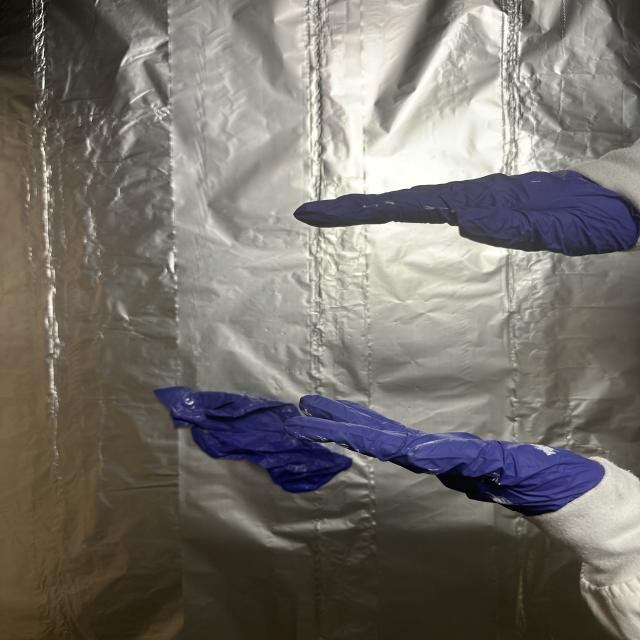gloves_contaminated: (285, 395, 604, 516), (294, 171, 640, 256)
